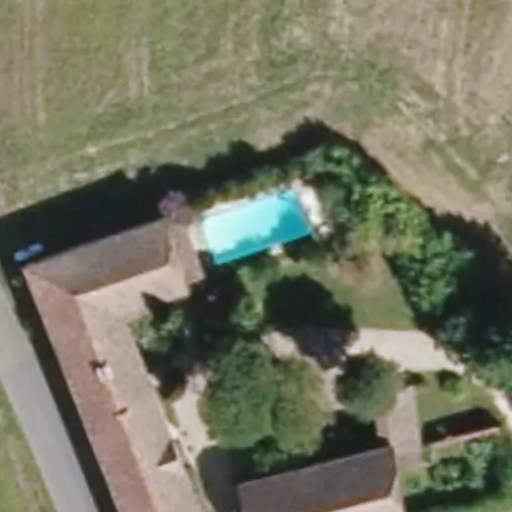pool: (197, 233, 315, 251)
